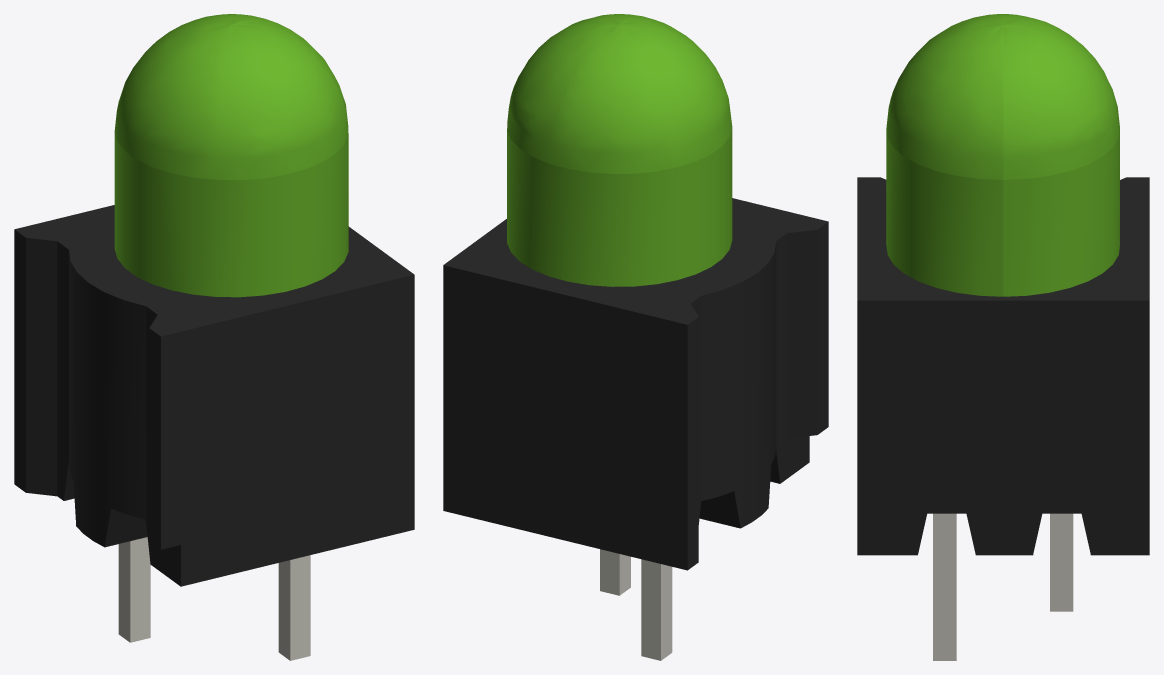
Rendered from kc-led_vcclite_5381h5_6.35x6.35mm.glb.
The picture shows the model from 3 angles, left to right: view 1: azimuth 30°, elevation 25°; view 2: azimuth 150°, elevation 25°; view 3: azimuth 270°, elevation 25°; orthographic projection. The views are drawn at different scales.
Parts seen in each view (by area): view 1: 0_0_0_0, 0.16666666666666666_0.4166666666666667_0_0, 0.6666666666666666_0.6666666666666666_0.5833333333333334_0.8; view 2: 0_0_0_0, 0.16666666666666666_0.4166666666666667_0_0, 0.6666666666666666_0.6666666666666666_0.5833333333333334_0.8; view 3: 0_0_0_0, 0.16666666666666666_0.4166666666666667_0_0, 0.6666666666666666_0.6666666666666666_0.5833333333333334_0.8.
Boxes of the visible parts, box(x1,y1,x2,y2) form: 0_0_0_0: box(14, 205, 414, 586); 0.16666666666666666_0.4166666666666667_0_0: box(114, 14, 348, 297); 0.6666666666666666_0.6666666666666666_0.5833333333333334_0.8: box(118, 537, 310, 660); 0_0_0_0: box(443, 198, 828, 570); 0.16666666666666666_0.4166666666666667_0_0: box(507, 14, 732, 286); 0.6666666666666666_0.6666666666666666_0.5833333333333334_0.8: box(600, 549, 672, 660); 0_0_0_0: box(857, 177, 1149, 555); 0.16666666666666666_0.4166666666666667_0_0: box(886, 14, 1119, 296); 0.6666666666666666_0.6666666666666666_0.5833333333333334_0.8: box(933, 513, 1073, 660).
Bounding box in the file's own units: 0.635 × 1.47 × 0.635.
